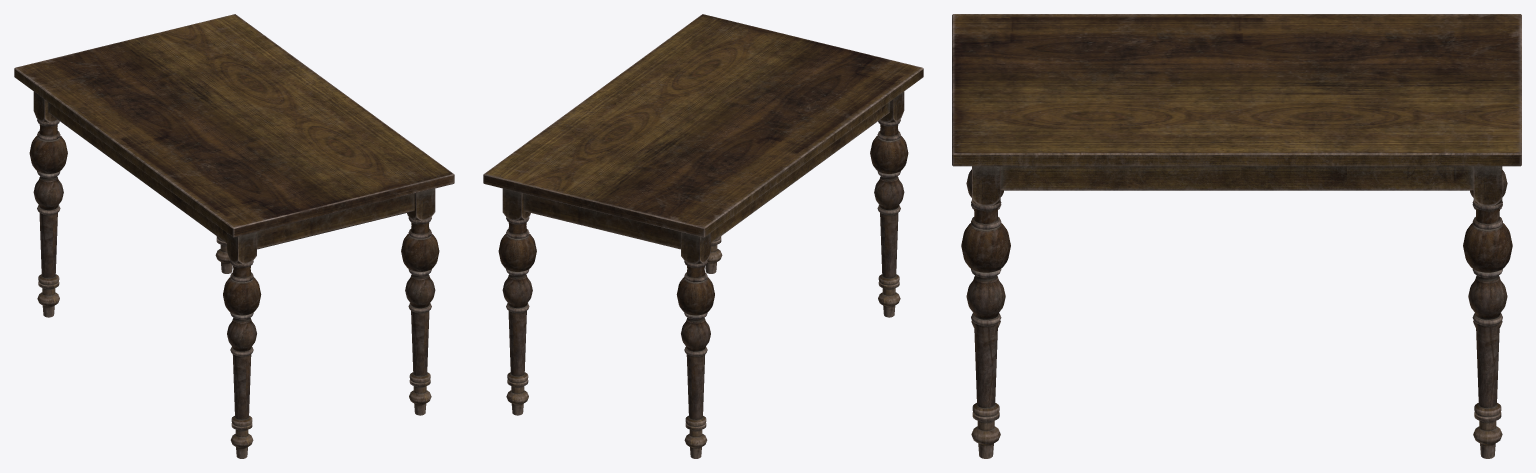
File: wooden_table.fbx
3 views of the same model, side by side, from view 1: azimuth 30°, elevation 25°; view 2: azimuth 150°, elevation 25°; view 3: azimuth 270°, elevation 25° (orthographic). The views are drawn at different scales.
Visible parts, largest first — view 1: wooden_table; view 2: wooden_table; view 3: wooden_table.
Boxes of the visible parts, x1,y1,x2,y2 form: wooden_table: (14,14,454,458); wooden_table: (483,14,923,458); wooden_table: (952,14,1521,458).
Bounding box in the file's own units: 2.1 × 3.6 × 2.2.
